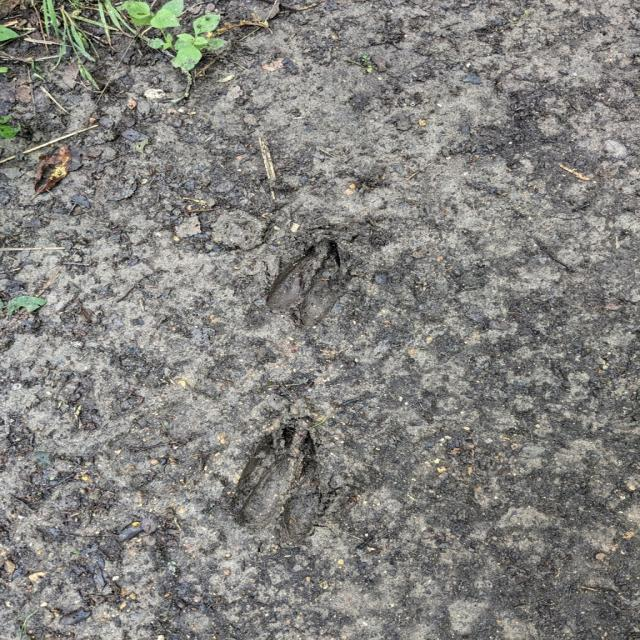deer: (243, 431, 332, 535), (277, 246, 350, 332)
